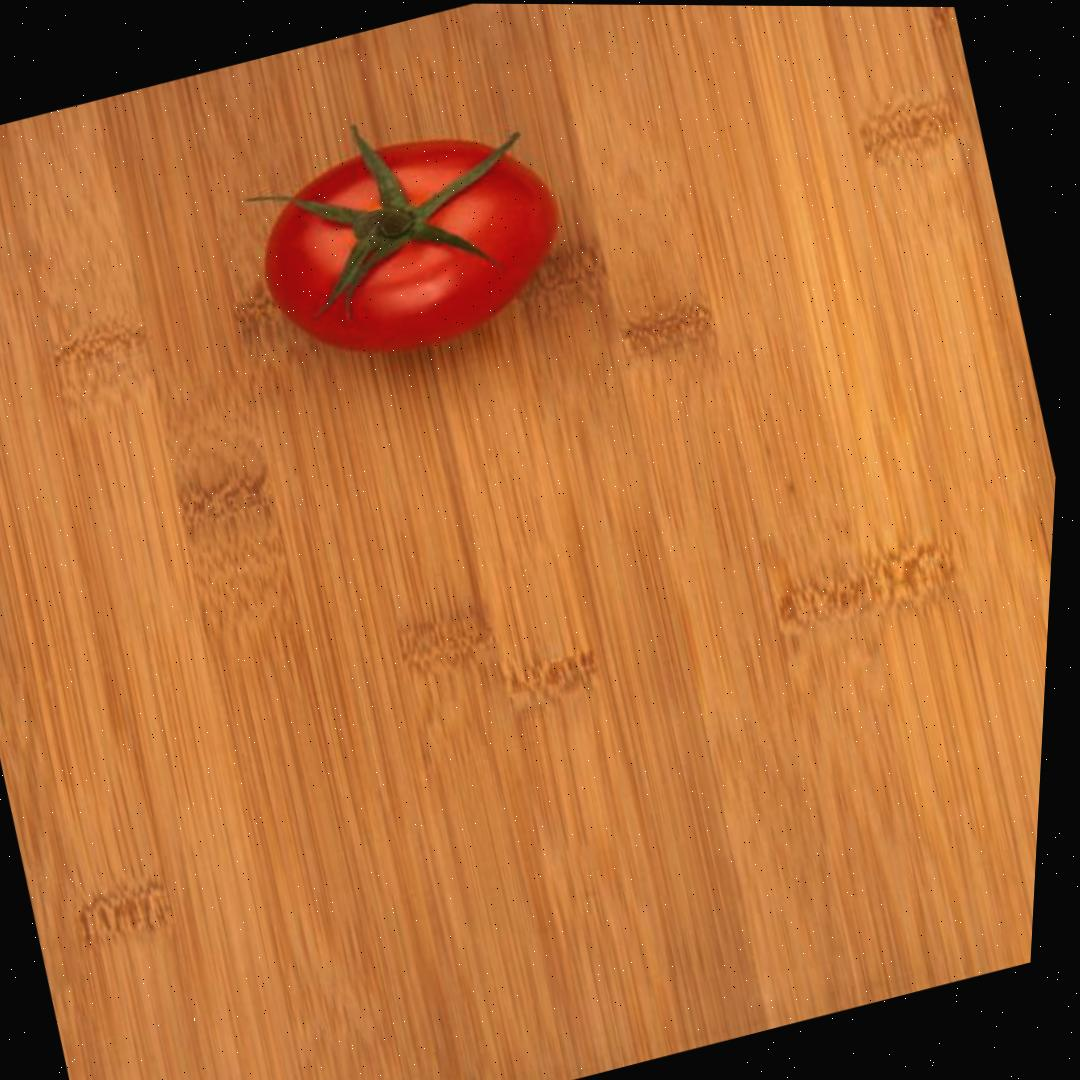matang: (236, 106, 591, 382)
